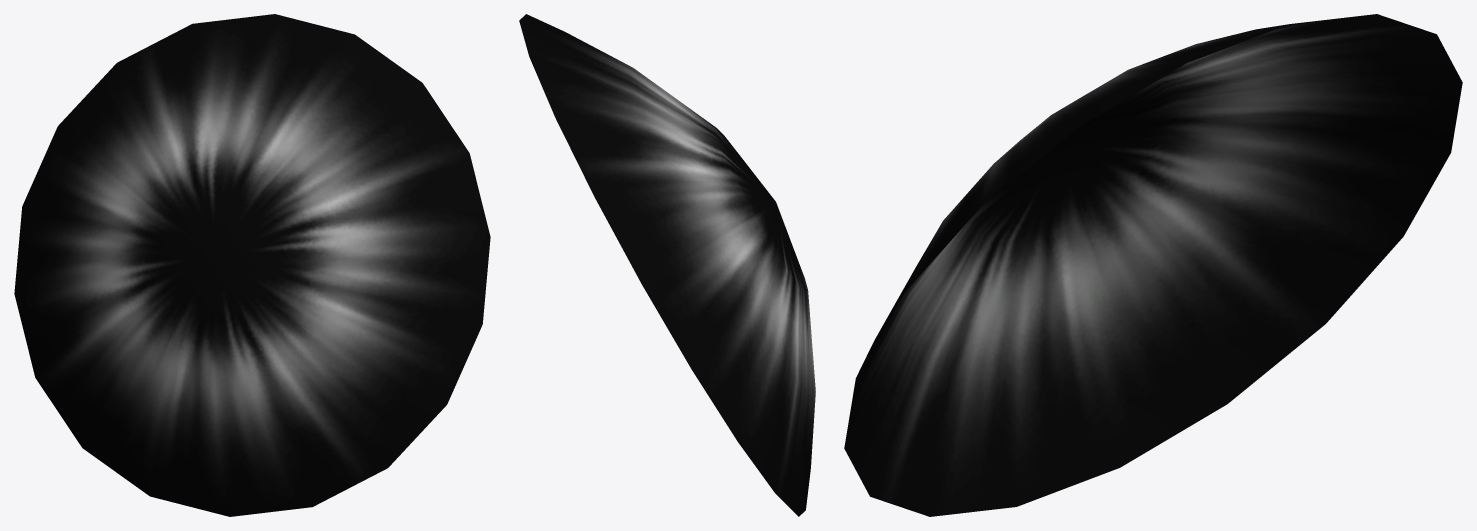
The model's file is fx_cookie0001_skill02_loop_end.fbx.
3 renders of one model, left to right at view 1: azimuth 30°, elevation 25°; view 2: azimuth 150°, elevation 25°; view 3: azimuth 270°, elevation 25°, orthographic. The views are drawn at different scales.
Visible parts, largest first — view 1: mesh_01 (2); view 2: mesh_01 (2); view 3: mesh_01 (2).
Boxes of the visible parts, x1,y1,x2,y2 form: mesh_01 (2): (14,14,490,516); mesh_01 (2): (519,14,815,516); mesh_01 (2): (844,14,1462,516).
Size of the model in its own units: 455 by 551 by 532.
1 material, 1 textured.
